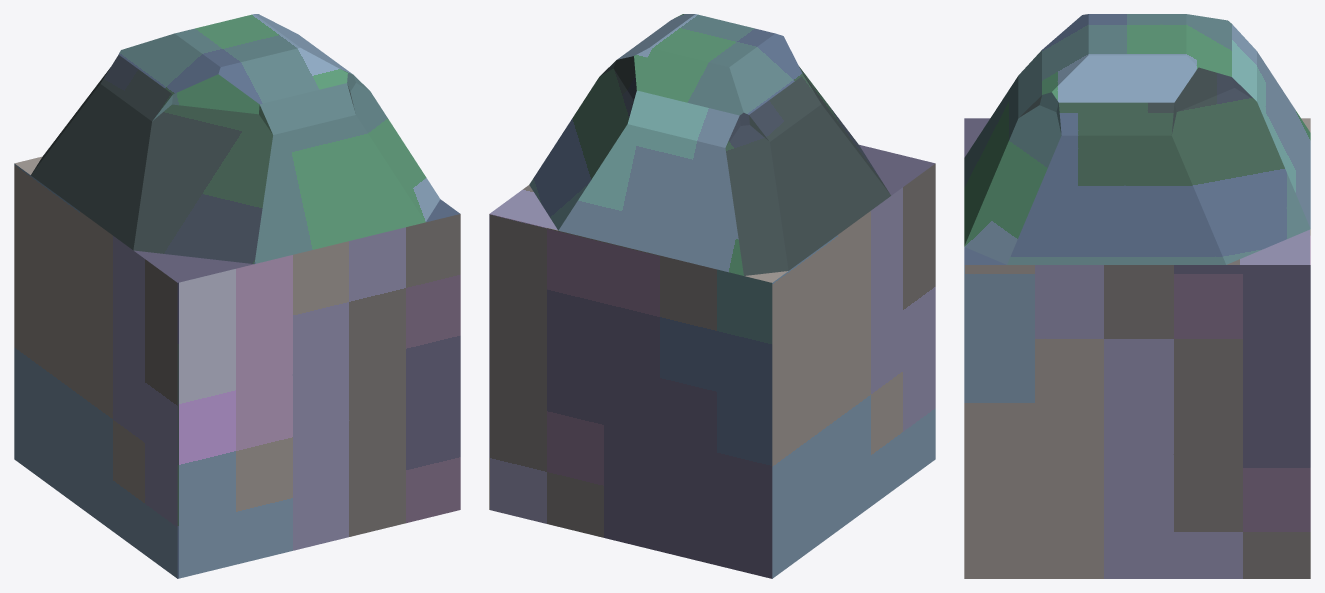
Rendered from stone1.obj.
3 views of the same model, side by side, from view 1: azimuth 30°, elevation 25°; view 2: azimuth 150°, elevation 25°; view 3: azimuth 270°, elevation 25° (orthographic). The views are drawn at different scales.
Visible parts, largest first — view 1: Cube.001_Cube; view 2: Cube.001_Cube; view 3: Cube.001_Cube.
Part boxes in pixels (x1,y1,x2,y2): Cube.001_Cube: [14, 14, 460, 578]; Cube.001_Cube: [489, 14, 935, 578]; Cube.001_Cube: [964, 14, 1310, 578].
Size of the model in its own units: 1 by 1.5 by 1.
